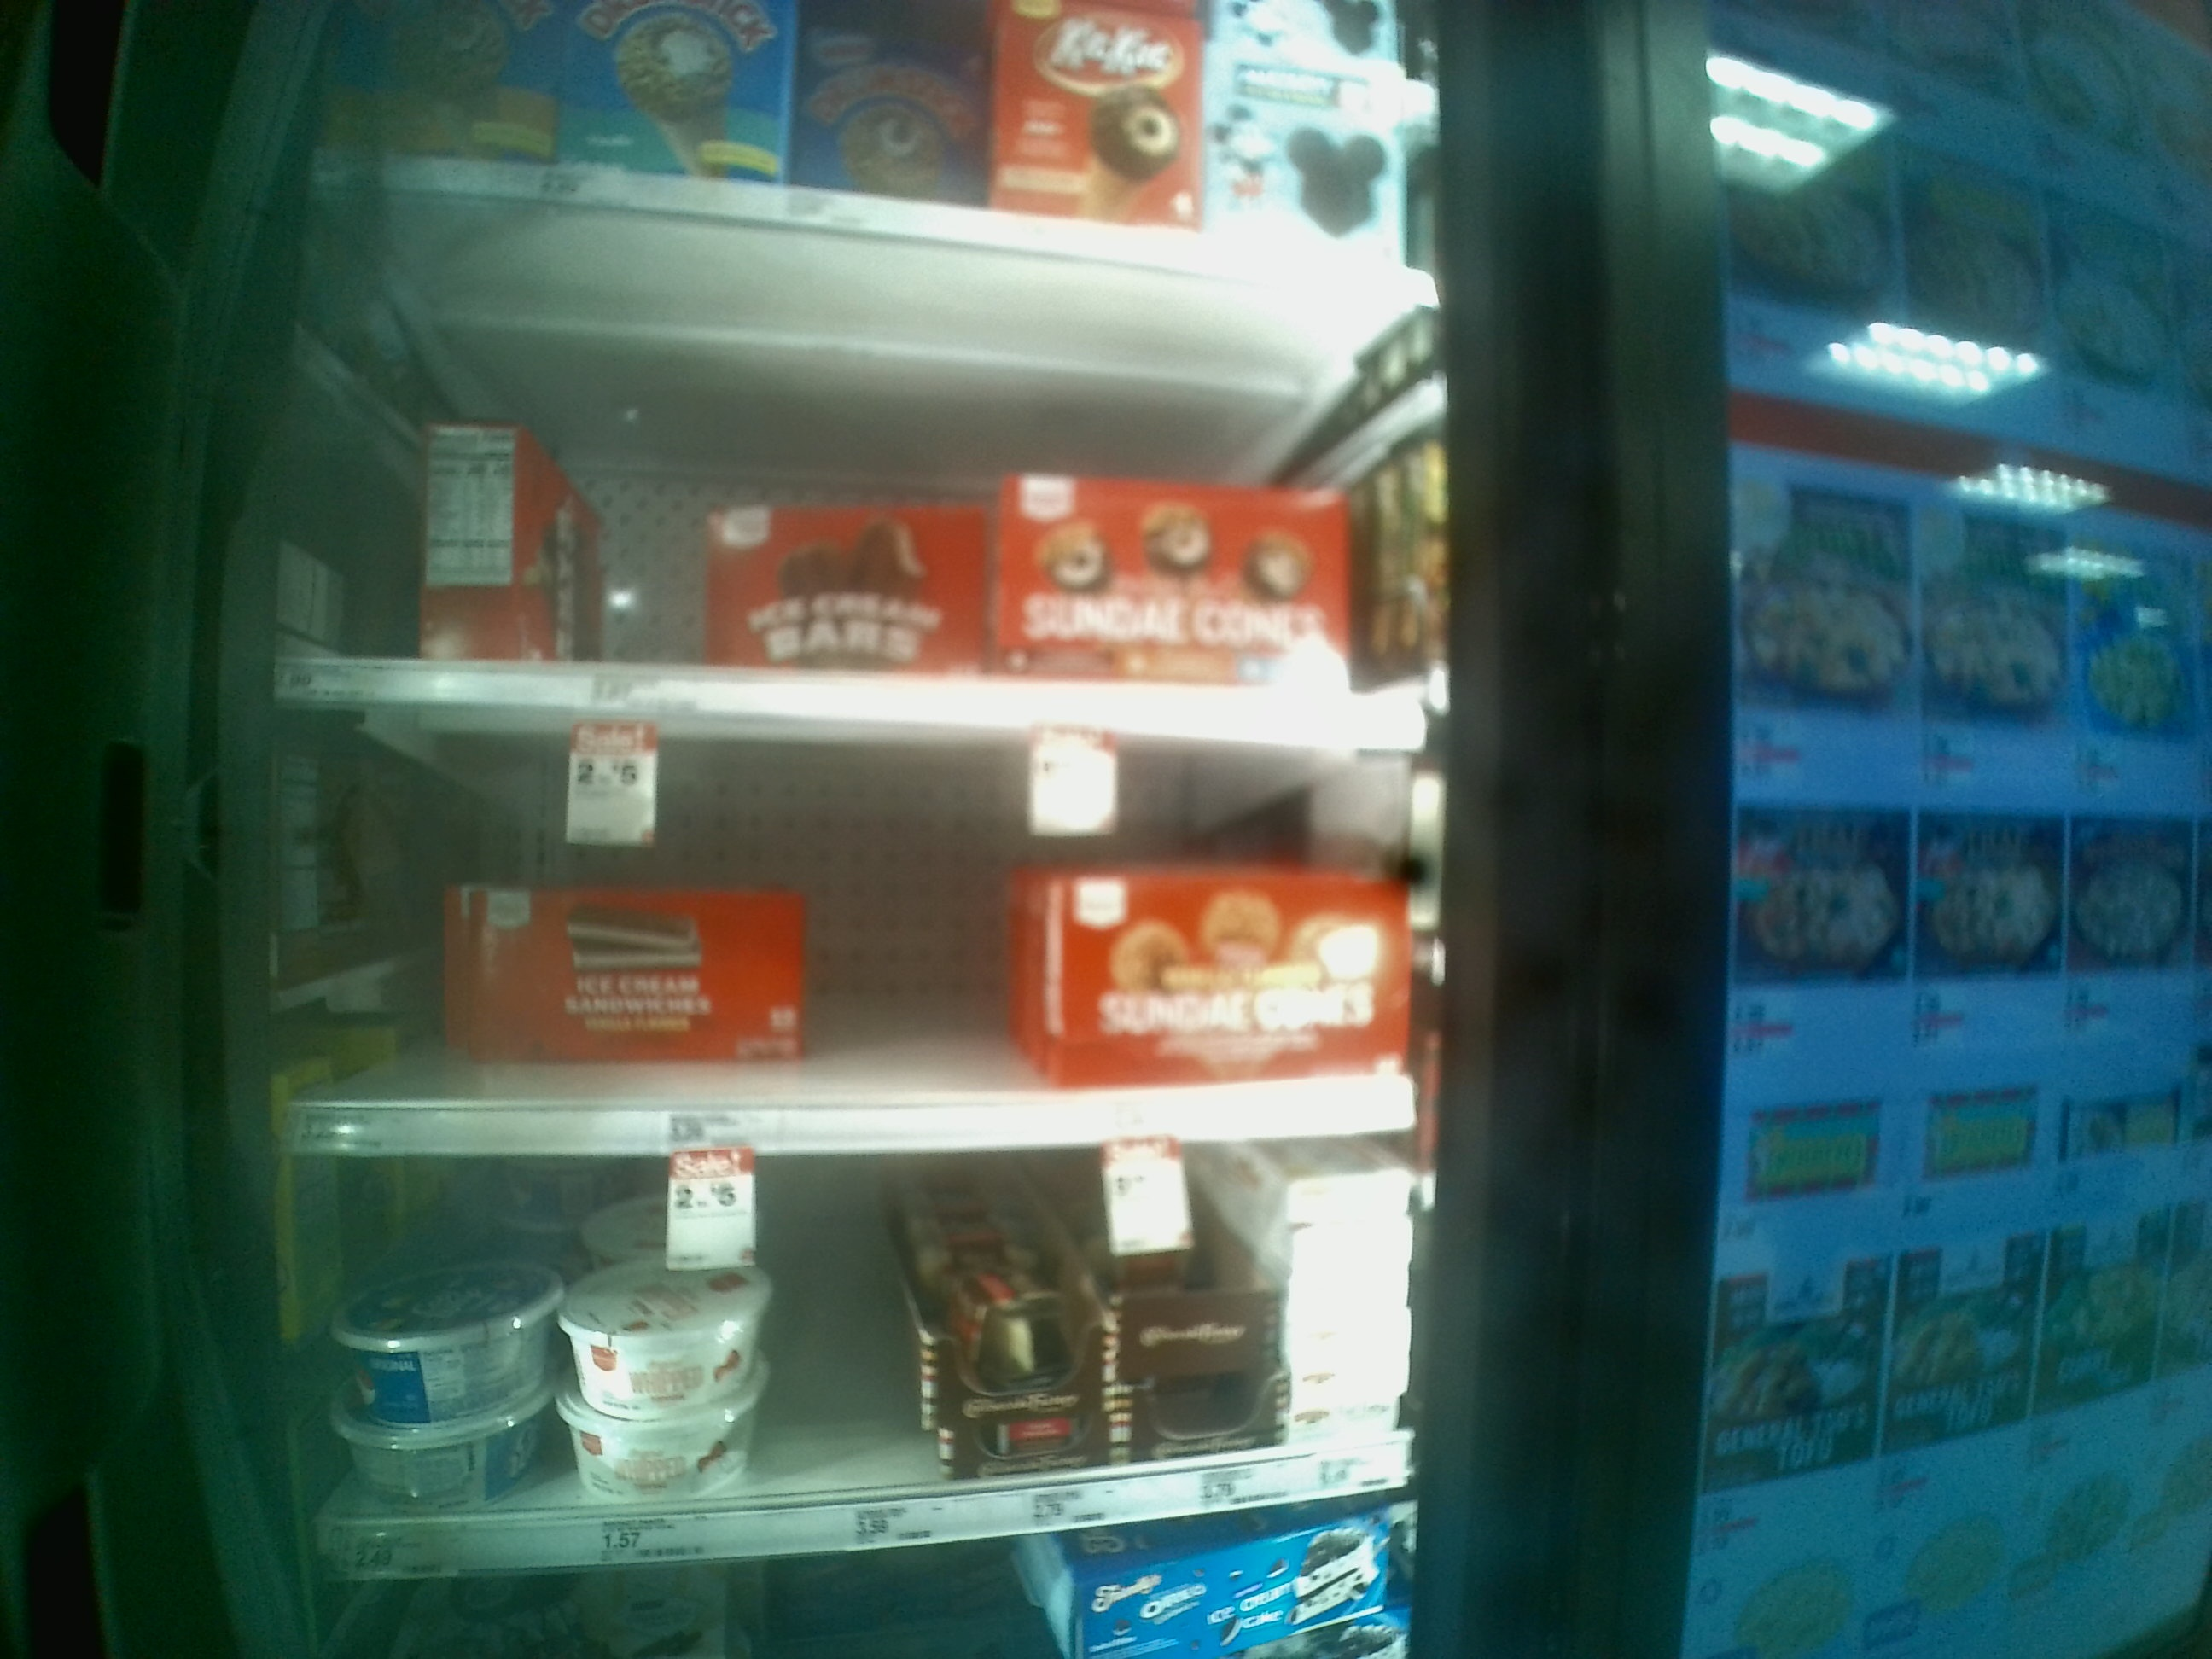frozen-food-shelf: (261, 704, 1433, 1161), (258, 1161, 1430, 1584)
